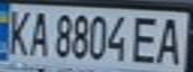0: (87, 11, 109, 61)
4: (106, 11, 133, 64)
8: (69, 10, 90, 61), (51, 10, 72, 60)
A: (151, 14, 190, 65), (24, 8, 51, 57)
E: (127, 12, 163, 65)
K: (3, 7, 33, 57)
